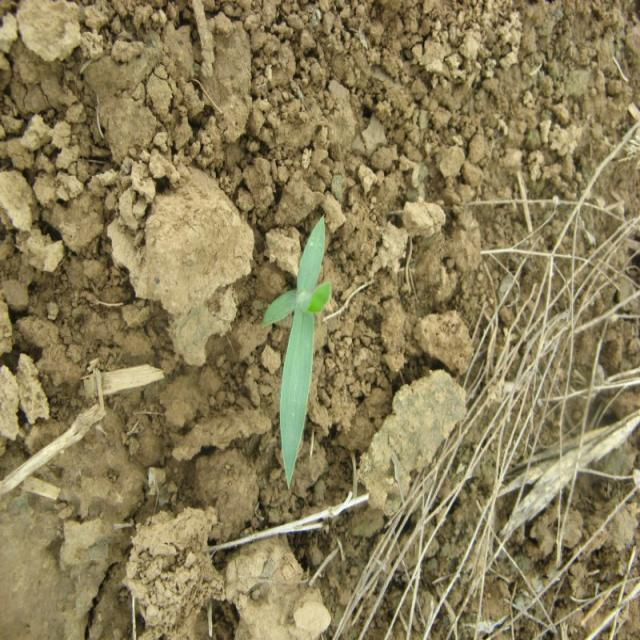bg: (264, 211, 328, 494)
